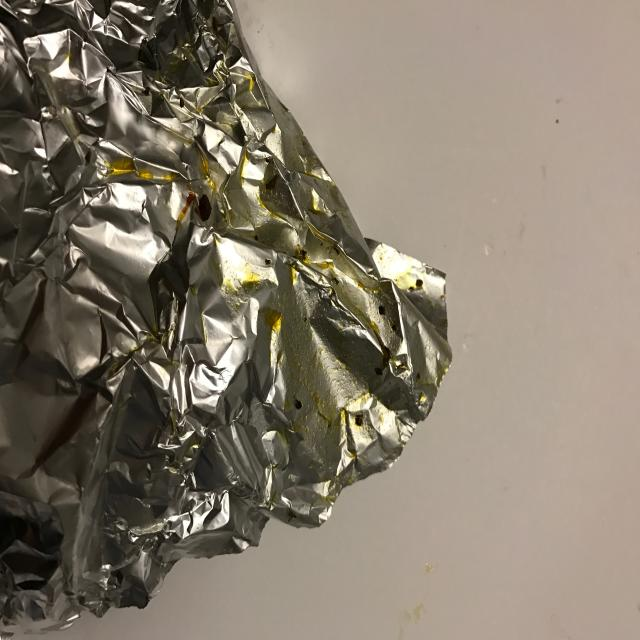metal: (0, 0, 453, 637)
